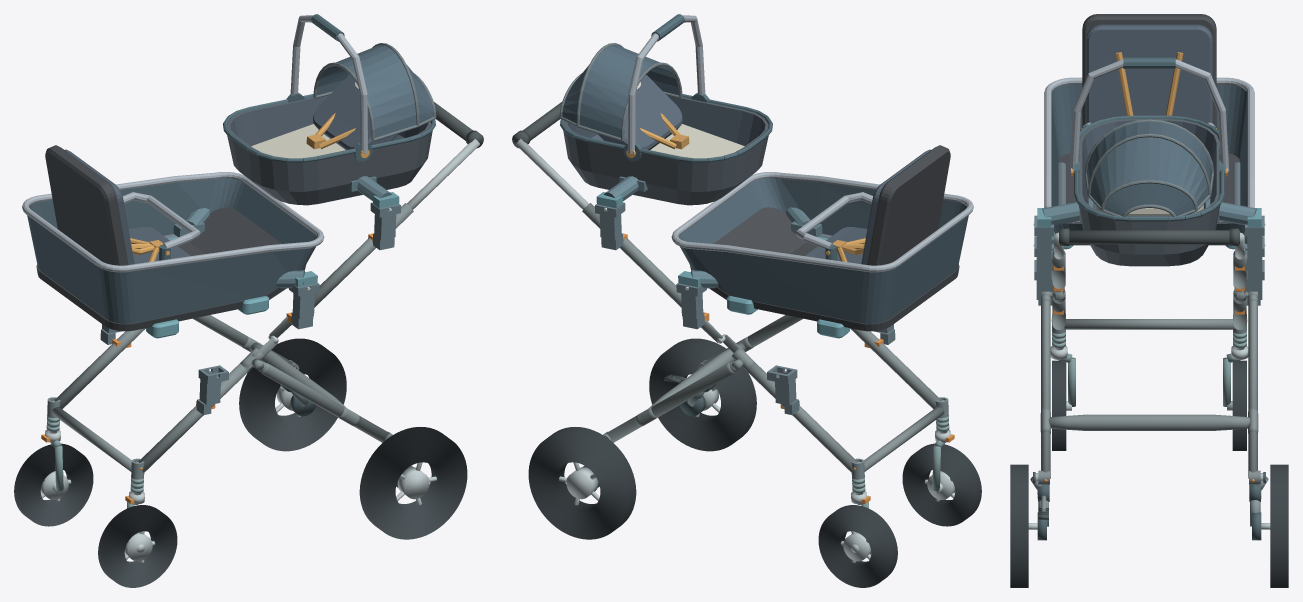
Rendered from D22_w550_state1_wheel_M.glb.
The picture shows the model from 3 angles, left to right: view 1: azimuth 30°, elevation 25°; view 2: azimuth 150°, elevation 25°; view 3: azimuth 270°, elevation 25°; orthographic projection. The views are drawn at different scales.
Parts seen in each view (by area): view 1: D22_Lower, D22_Upper, RL_tire.002, RR_tire.002, FL_tire.002, FR_tire.002, V46_rear_leg_-1.003, main_lower_-1.003, main_lower_1.003, main_upper_-1.003, D22_Lower_Mount_M, Universal_Cabin_Receiver_L_-1 (+9 smaller); view 2: D22_Lower, D22_Upper, RR_tire.002, RL_tire.002, FR_tire.002, FL_tire.002, V46_rear_leg_1.003, main_lower_1.003, main_lower_-1.003, main_upper_1.003, D22_Lower_Mount_M, Universal_Cabin_Receiver_L_1 (+9 smaller); view 3: D22_Upper, D22_Lower, V46_rearbar.003, round_handle.002, RL_tire.002, RR_tire.002, front_fixed_round_tube.002, D22_Upper_Mount_H, V46_rear_leg_1.003, V46_rear_leg_-1.003, FL_tire.002, FR_tire.002 (+8 smaller).
Part boxes in pixels (box(x1,y1,x2,y2)): D22_Lower: box(22, 145, 324, 338); D22_Upper: box(223, 14, 436, 205); RL_tire.002: box(359, 427, 467, 539); RR_tire.002: box(239, 338, 346, 451); FL_tire.002: box(98, 505, 177, 587); FR_tire.002: box(14, 443, 93, 526); V46_rear_leg_-1.003: box(260, 363, 389, 442); main_lower_-1.003: box(138, 363, 251, 472); main_lower_1.003: box(54, 328, 145, 409); main_upper_-1.003: box(291, 203, 413, 313); D22_Lower_Mount_M: box(173, 208, 317, 289); Universal_Cabin_Receiver_L_-1: box(196, 365, 228, 414); D22_Lower: box(671, 145, 973, 338); D22_Upper: box(559, 14, 772, 205); RR_tire.002: box(528, 427, 636, 539); RL_tire.002: box(649, 338, 756, 451); FR_tire.002: box(818, 505, 897, 587); FL_tire.002: box(902, 443, 981, 526); V46_rear_leg_1.003: box(606, 363, 735, 442); main_lower_1.003: box(744, 363, 857, 472); main_lower_-1.003: box(850, 328, 941, 409); main_upper_1.003: box(582, 203, 704, 313); D22_Lower_Mount_M: box(678, 207, 822, 289); Universal_Cabin_Receiver_L_1: box(767, 365, 799, 414); D22_Upper: box(1069, 57, 1229, 266); D22_Lower: box(1044, 14, 1254, 249); V46_rearbar.003: box(1048, 414, 1250, 430); round_handle.002: box(1059, 230, 1239, 244); RL_tire.002: box(1010, 464, 1028, 587); RR_tire.002: box(1270, 464, 1288, 587); front_fixed_round_tube.002: box(1064, 319, 1234, 329); D22_Upper_Mount_H: box(1033, 198, 1265, 227); V46_rear_leg_1.003: box(1248, 299, 1257, 478); V46_rear_leg_-1.003: box(1041, 299, 1050, 478); FL_tire.002: box(1052, 360, 1066, 450); FR_tire.002: box(1232, 360, 1246, 450).
Bounding box in the file's own units: 1.16 × 1.37 × 0.6771.
